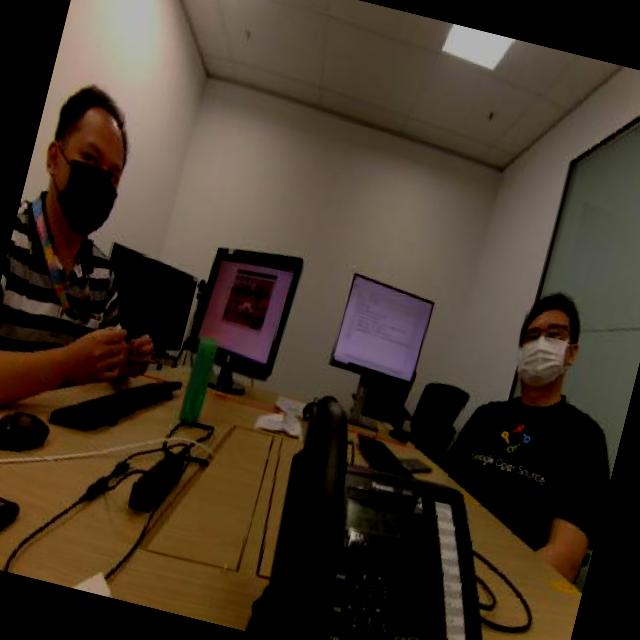Person: (0, 62, 177, 388), (430, 252, 640, 517)
